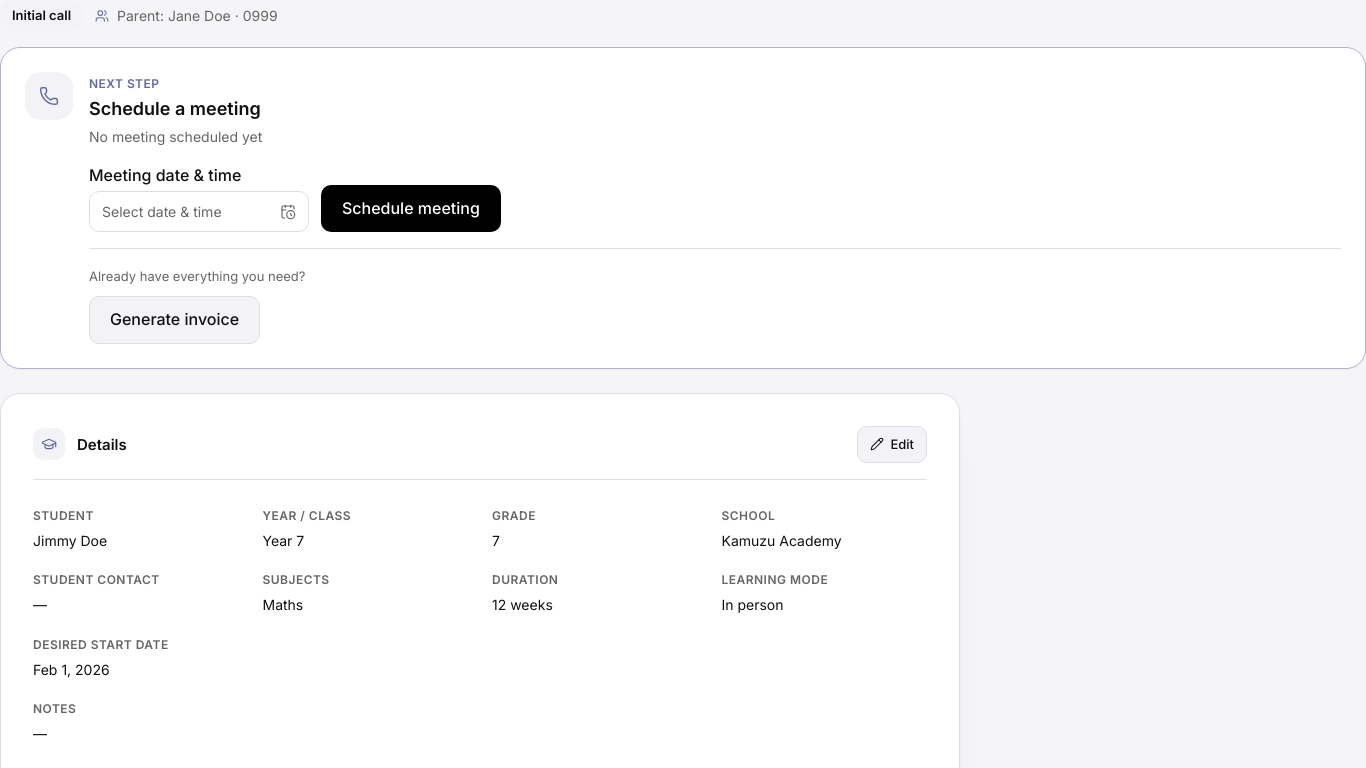
Test: EnquiryDetailPage next action panel › scheduling a meeting saves the time and advances the stage to Meeting set in one action
This screenshot has width=1366, height=768.
Check: the text "Parent: Jane Doe · 0999" is shown, box top-left (95, 4), bottom-right (278, 27)
Click the button named "Meeting date & time": (199, 212) top-left (89, 191), bottom-right (309, 232)
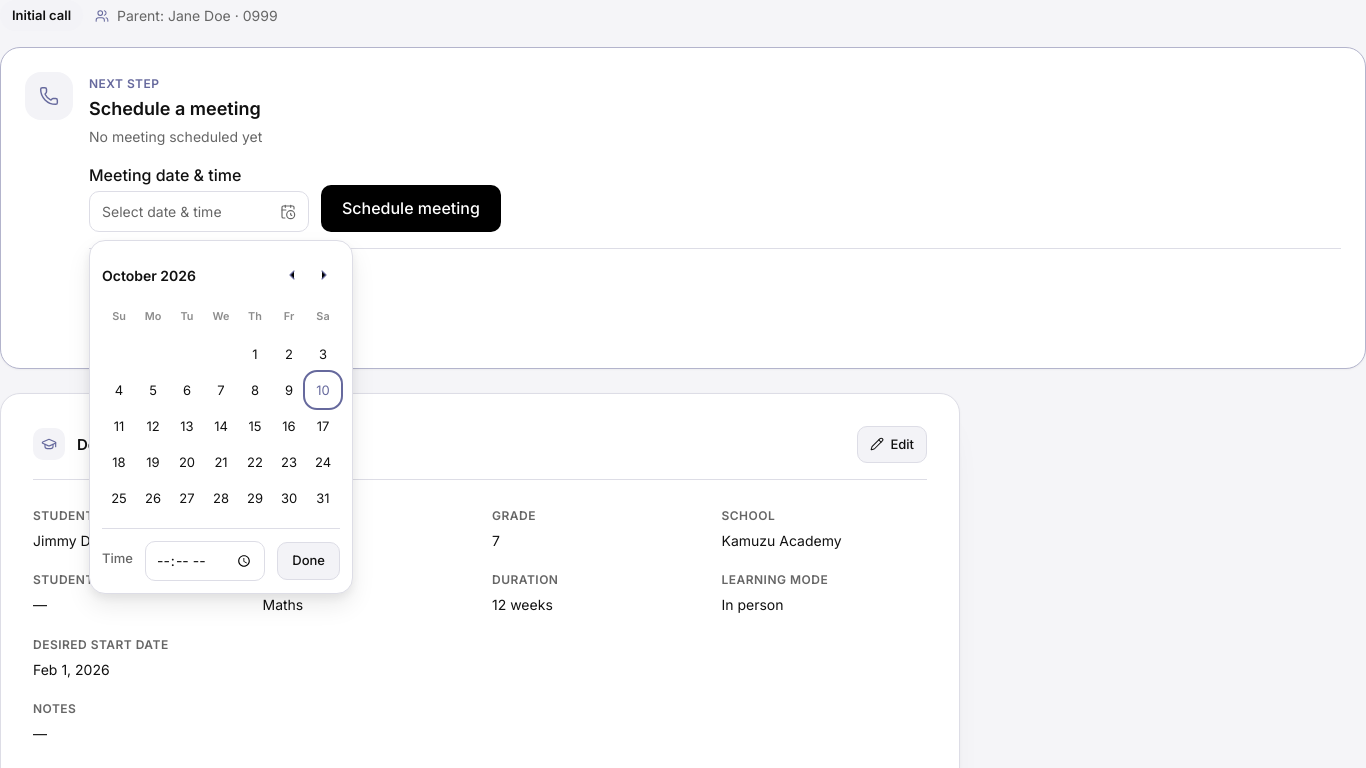
Click the button with class "rdp-day_button" showing "10": (323, 390) top-left (307, 374), bottom-right (339, 406)
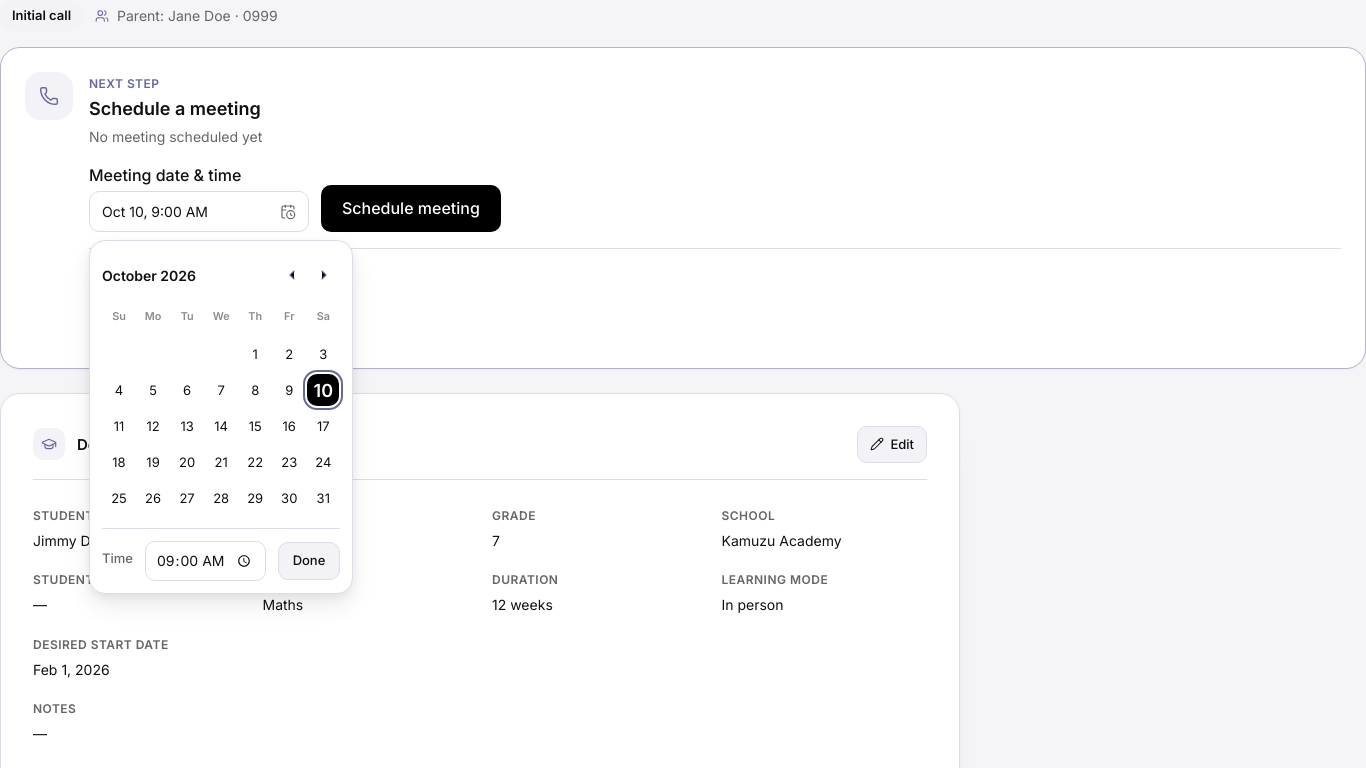
Replace the text in the time field labelled "Time" with "14:00": (205, 561) top-left (145, 541), bottom-right (266, 581)
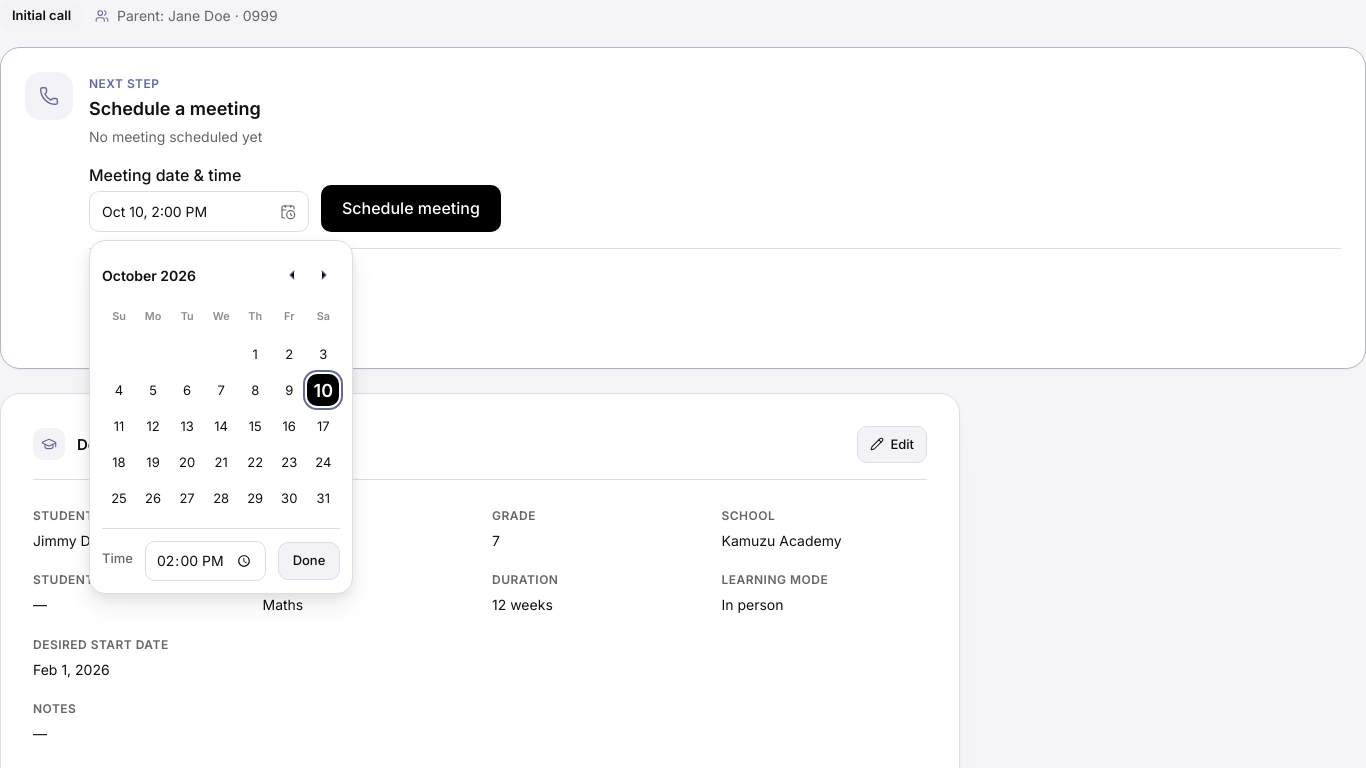
Click the button "Schedule meeting": (411, 209) top-left (321, 185), bottom-right (501, 232)
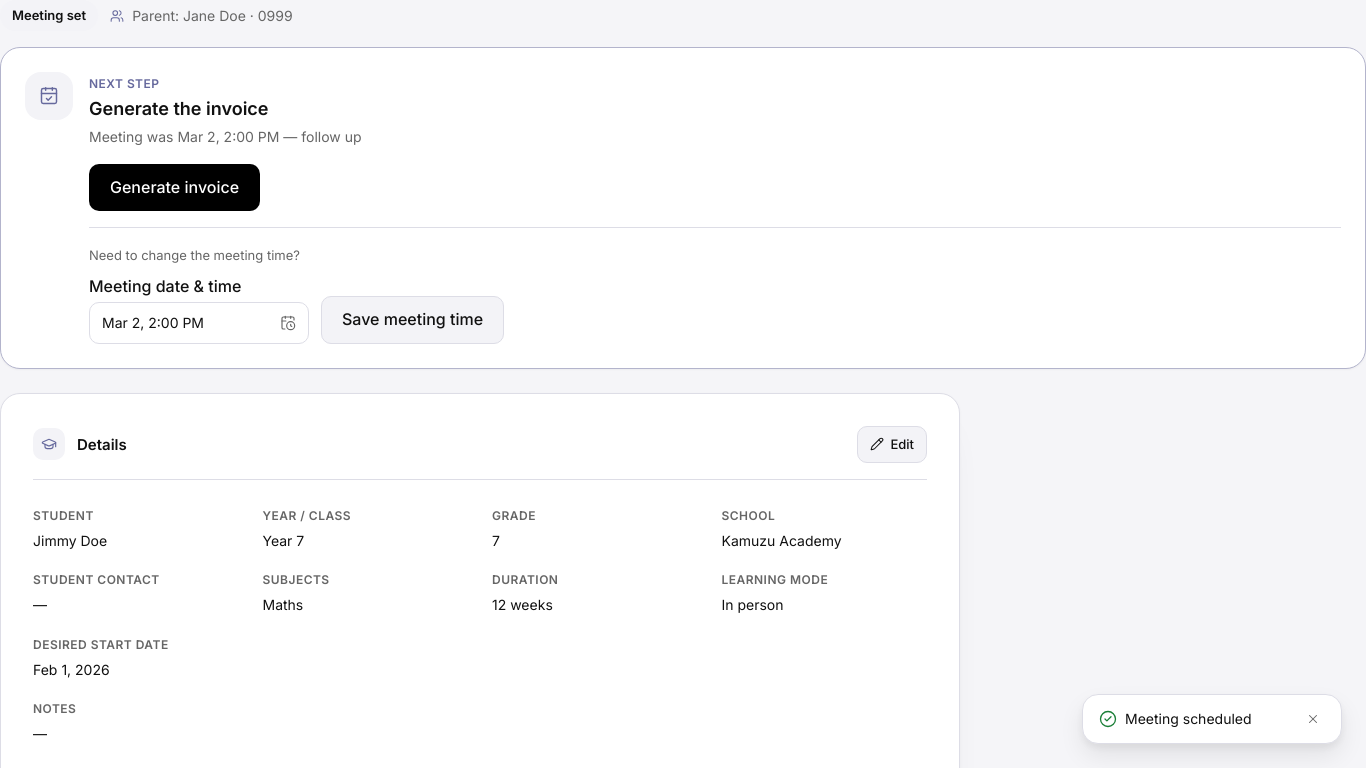
Check: the text "Meeting scheduled" is shown, box top-left (1125, 710), bottom-right (1252, 727)
Check: the text "Meeting set" is shown, box top-left (0, 0), bottom-right (98, 31)
